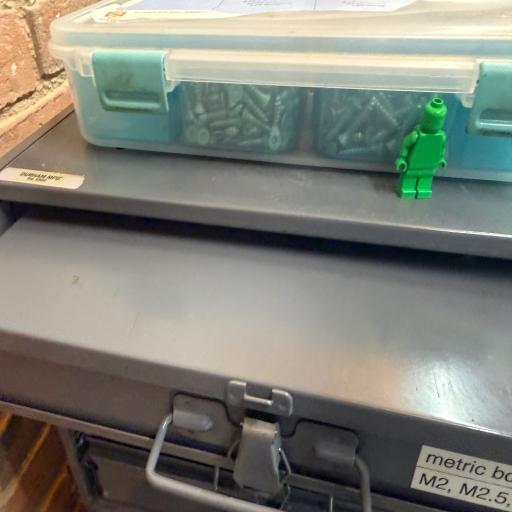Lego-Dude: (395, 98, 447, 198)
